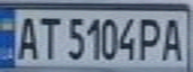0: (100, 15, 121, 61)
1: (81, 15, 103, 61)
4: (118, 15, 139, 61)
5: (63, 14, 84, 61)
A: (12, 12, 42, 61), (157, 15, 187, 62)
P: (136, 15, 163, 62)
T: (33, 12, 60, 61)
